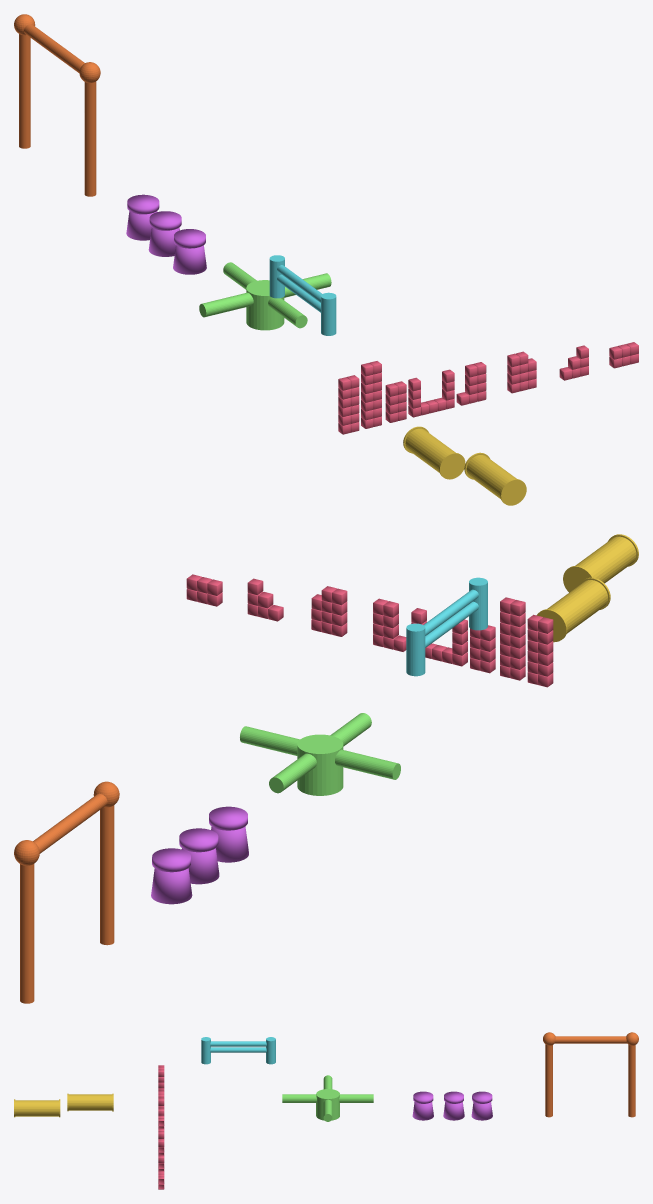
Rendered from abstract.engeller.fbx.
The picture shows the model from 3 angles, top to bottom: view 1: azimuth 30°, elevation 25°; view 2: azimuth 150°, elevation 25°; view 3: azimuth 270°, elevation 25°; orthographic projection. The views are drawn at different scales.
Parts seen in each view (by area): view 1: Sphere, Cylinder.001, Cylinder.002, Cylinder.008, Cylinder.009, Cylinder, Cube.007, Cube.015, Cylinder.003, Cube.005, Cylinder.004, Cube.055 (+3 smaller); view 2: Sphere, Cylinder.001, Cylinder.002, Cylinder.009, Cylinder.008, Cylinder.004, Cube.007, Cube.005, Cylinder, Cylinder.003, Cube.055, Cube.035 (+4 smaller); view 3: Sphere, Cylinder.001, Cylinder.002, Cylinder.009, Cylinder.008, Cylinder, Cylinder.004, Cylinder.003.
Part boxes in pixels (x1=…): Sphere: x1=14, y1=14, x2=100, y2=196; Cylinder.001: x1=199, y1=262, x2=331, y2=330; Cylinder.002: x1=269, y1=255, x2=336, y2=335; Cylinder.008: x1=464, y1=452, x2=526, y2=505; Cylinder.009: x1=403, y1=426, x2=465, y2=479; Cylinder: x1=173, y1=229, x2=206, y2=274; Cube.007: x1=361, y1=361, x2=381, y2=428; Cube.015: x1=408, y1=369, x2=454, y2=417; Cylinder.003: x1=148, y1=211, x2=181, y2=256; Cube.005: x1=338, y1=375, x2=359, y2=434; Cylinder.004: x1=126, y1=194, x2=159, y2=240; Cube.055: x1=507, y1=351, x2=536, y2=393; Sphere: x1=14, y1=781, x2=119, y2=1003; Cylinder.001: x1=240, y1=713, x2=400, y2=795; Cylinder.002: x1=406, y1=577, x2=487, y2=676; Cylinder.009: x1=536, y1=577, x2=610, y2=642; Cylinder.008: x1=563, y1=534, x2=638, y2=592; Cylinder.004: x1=151, y1=848, x2=192, y2=904; Cube.007: x1=500, y1=597, x2=525, y2=680; Cube.005: x1=527, y1=614, x2=553, y2=687; Cylinder: x1=209, y1=806, x2=248, y2=862; Cylinder.003: x1=179, y1=828, x2=219, y2=884; Cube.055: x1=311, y1=586, x2=347, y2=636; Cube.035: x1=373, y1=598, x2=406, y2=651; Sphere: x1=543, y1=1032, x2=638, y2=1117; Cylinder.001: x1=282, y1=1075, x2=373, y2=1121; Cylinder.002: x1=201, y1=1037, x2=275, y2=1064; Cylinder.009: x1=67, y1=1093, x2=113, y2=1111; Cylinder.008: x1=14, y1=1099, x2=60, y2=1117; Cylinder: x1=412, y1=1091, x2=433, y2=1120; Cylinder.004: x1=471, y1=1091, x2=492, y2=1120; Cylinder.003: x1=443, y1=1091, x2=464, y2=1120.
Size of the model in its own units: 1838 by 769 by 5214.
